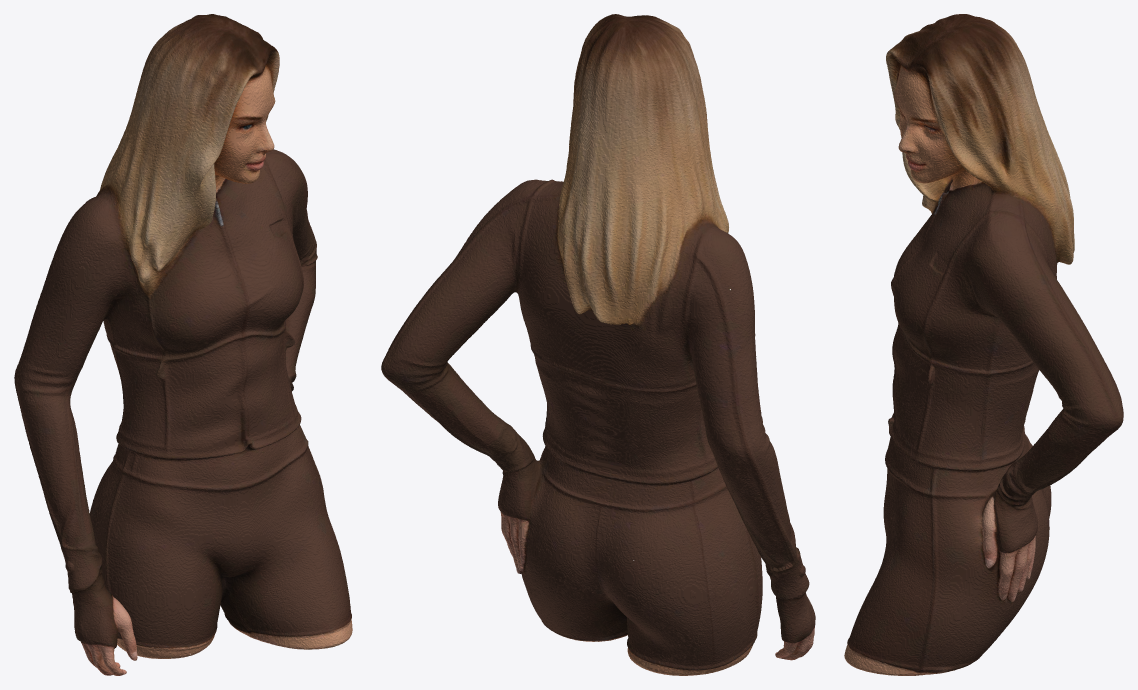
The model's file is flow_zip_up_jacket.glb.
3 renders of one model, left to right at view 1: azimuth 30°, elevation 25°; view 2: azimuth 150°, elevation 25°; view 3: azimuth 270°, elevation 25°, orthographic. The views are drawn at different scales.
Parts seen in each view (by area): view 1: tripo_node_ecd999d5-561d-4f23-9315-9b2bf2e090e2; view 2: tripo_node_ecd999d5-561d-4f23-9315-9b2bf2e090e2; view 3: tripo_node_ecd999d5-561d-4f23-9315-9b2bf2e090e2.
Boxes of the visible parts, left/top/right/bottom form: tripo_node_ecd999d5-561d-4f23-9315-9b2bf2e090e2: left=14, top=14, right=352, bottom=675; tripo_node_ecd999d5-561d-4f23-9315-9b2bf2e090e2: left=381, top=14, right=815, bottom=675; tripo_node_ecd999d5-561d-4f23-9315-9b2bf2e090e2: left=844, top=14, right=1123, bottom=675.
Size of the model in its own units: 0.571 by 0.9998 by 0.4166.
1 material, 1 textured.
